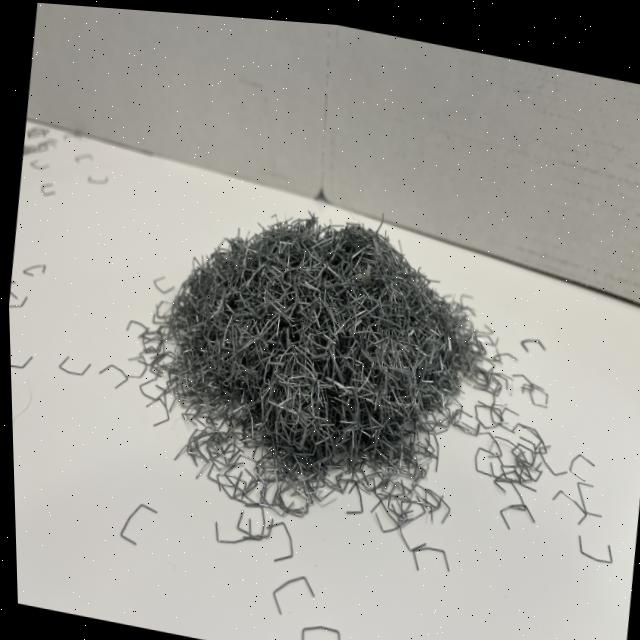staples: (138, 178, 505, 516)
